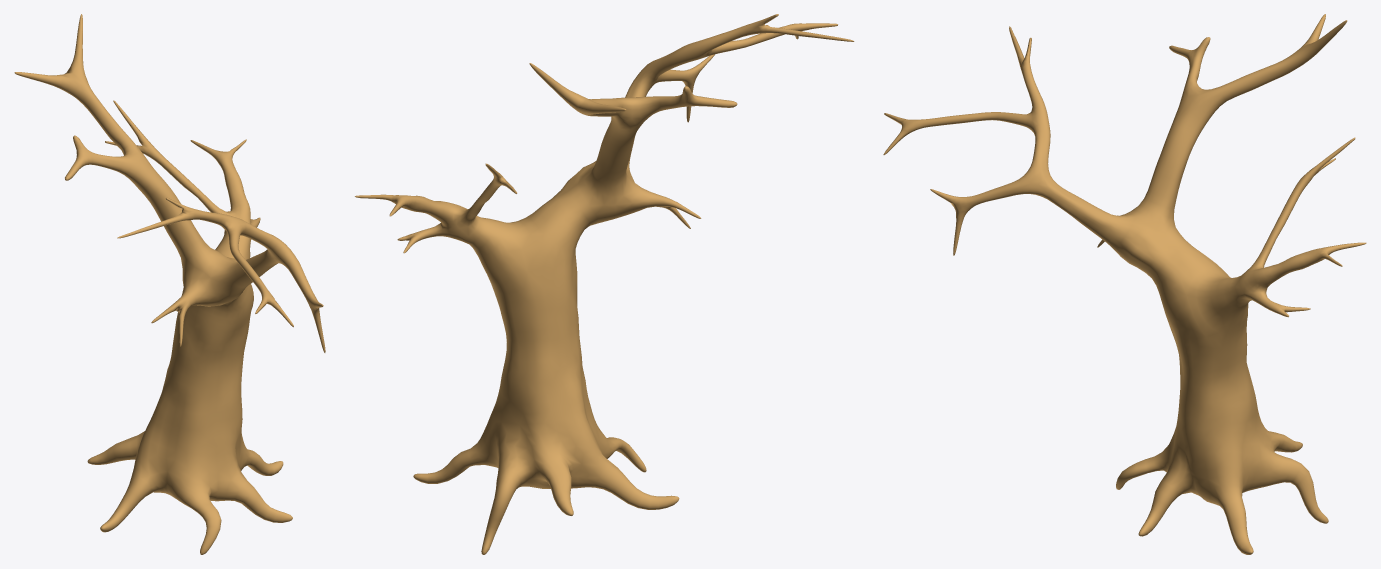
Rendered from tree.glb.
3 views of the same model, side by side, from view 1: azimuth 30°, elevation 25°; view 2: azimuth 150°, elevation 25°; view 3: azimuth 270°, elevation 25° (orthographic). The views are drawn at different scales.
Visible parts, largest first — view 1: Retopo_Tree.001; view 2: Retopo_Tree.001; view 3: Retopo_Tree.001.
Part boxes in pixels (x1,y1,x2,y2): Retopo_Tree.001: [14, 14, 325, 554]; Retopo_Tree.001: [355, 14, 854, 554]; Retopo_Tree.001: [883, 14, 1366, 554].
Bounding box in the file's own units: 3.37 × 5.16 × 4.73.
